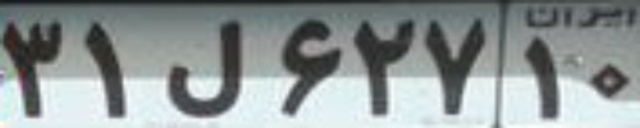0: (584, 64, 632, 98)
1: (81, 21, 133, 119), (520, 36, 558, 118)
2: (351, 18, 414, 117)
3: (0, 17, 68, 116)
6: (277, 17, 342, 115)
7: (420, 16, 485, 115)
lam: (161, 20, 244, 117)
